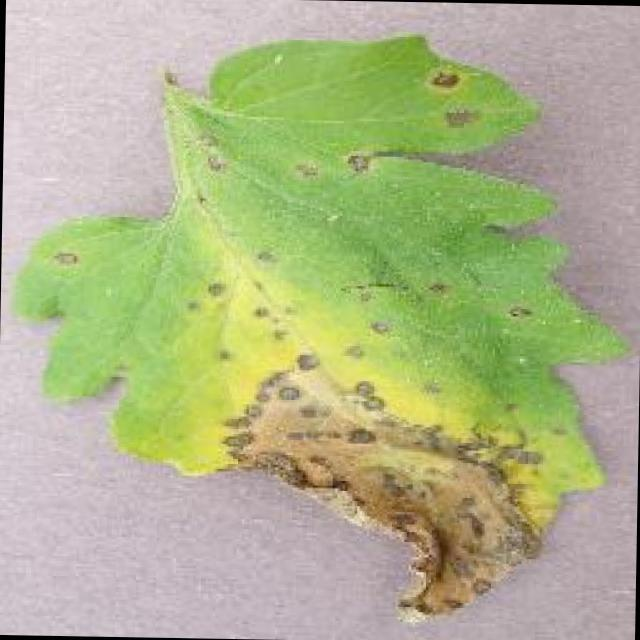Tomato Septoria spot leaf: (12, 30, 632, 622)
